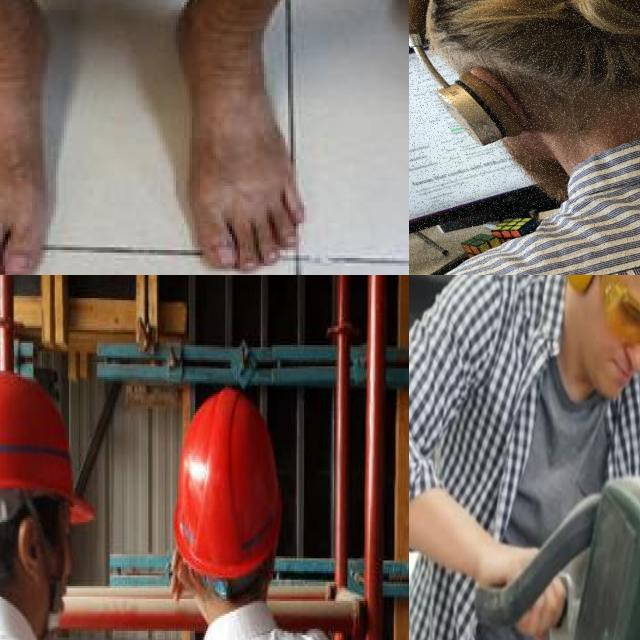Barefoots: (171, 0, 312, 274), (0, 0, 93, 275)
Ear-protection: (409, 0, 640, 199), (556, 275, 640, 410)
No_Ear-Protection: (16, 511, 45, 588)
glasses: (595, 275, 640, 363)
head_helmet: (174, 389, 281, 597), (0, 371, 94, 523)
person: (409, 275, 640, 640)
